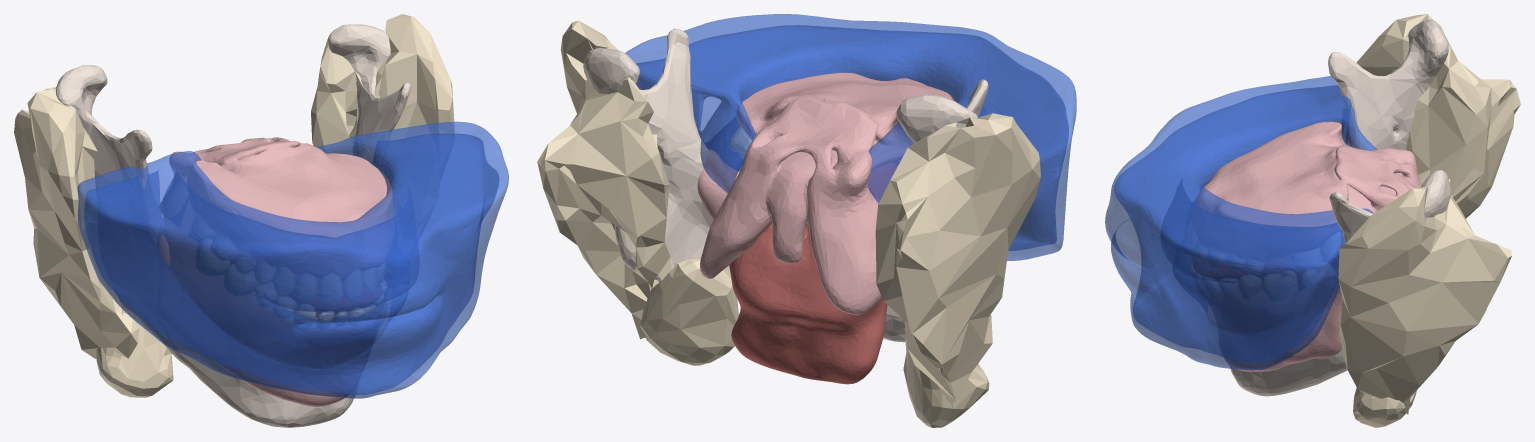
The model's file is mouth.glb.
3 views of the same model, side by side, from view 1: azimuth 30°, elevation 25°; view 2: azimuth 150°, elevation 25°; view 3: azimuth 270°, elevation 25° (orthographic). The views are drawn at different scales.
Visible parts, largest first — view 1: VH_M_buccal_mucosa, VH_M_parotid_gland_R, VH_M_mandible, VH_M_hard_palate, VH_M_parotid_gland_L, VH_M_submandibular_gland_R, VH_M_mucosa_of_soft_palate, VH_M_gingiva_of_lower_jaw, VH_M_ginviva_of_upper_jaw, VH_M_set_of_lower_jaw_teeth; view 2: VH_M_buccal_mucosa, VH_M_parotid_gland_R, VH_M_mucosa_of_soft_palate, VH_M_parotid_gland_L, VH_M_mandible, VH_M_posterior_part_of_tongue, VH_M_submandibular_gland_L, VH_M_hard_palate, VH_M_submandibular_gland_R, VH_M_gingiva_of_lower_jaw, VH_M_dorsal_tongue; view 3: VH_M_buccal_mucosa, VH_M_parotid_gland_L, VH_M_parotid_gland_R, VH_M_mandible, VH_M_hard_palate, VH_M_mucosa_of_soft_palate, VH_M_gingiva_of_lower_jaw, VH_M_submandibular_gland_L.
Boxes of the visible parts, bbox=[...] form: VH_M_buccal_mucosa: bbox=[77, 121, 508, 398]; VH_M_parotid_gland_R: bbox=[14, 86, 139, 358]; VH_M_mandible: bbox=[56, 24, 411, 427]; VH_M_hard_palate: bbox=[193, 141, 392, 235]; VH_M_parotid_gland_L: bbox=[311, 14, 454, 154]; VH_M_submandibular_gland_R: bbox=[96, 309, 173, 397]; VH_M_mucosa_of_soft_palate: bbox=[160, 137, 303, 208]; VH_M_gingiva_of_lower_jaw: bbox=[159, 234, 348, 406]; VH_M_ginviva_of_upper_jaw: bbox=[187, 165, 393, 237]; VH_M_set_of_lower_jaw_teeth: bbox=[285, 305, 375, 321]; VH_M_buccal_mucosa: bbox=[625, 14, 1076, 260]; VH_M_parotid_gland_R: bbox=[875, 113, 1040, 403]; VH_M_mucosa_of_soft_palate: bbox=[700, 96, 904, 315]; VH_M_parotid_gland_L: bbox=[537, 20, 674, 339]; VH_M_mandible: bbox=[583, 28, 988, 342]; VH_M_posterior_part_of_tongue: bbox=[729, 231, 887, 384]; VH_M_submandibular_gland_L: bbox=[640, 256, 738, 365]; VH_M_hard_palate: bbox=[737, 72, 950, 149]; VH_M_submandibular_gland_R: bbox=[903, 328, 989, 427]; VH_M_gingiva_of_lower_jaw: bbox=[697, 149, 739, 220]; VH_M_dorsal_tongue: bbox=[765, 163, 896, 252]; VH_M_buccal_mucosa: bbox=[1105, 76, 1377, 370]; VH_M_parotid_gland_L: bbox=[1338, 179, 1511, 414]; VH_M_parotid_gland_R: bbox=[1356, 14, 1520, 218]; VH_M_mandible: bbox=[1229, 19, 1450, 396]; VH_M_hard_palate: bbox=[1201, 121, 1349, 226]; VH_M_mucosa_of_soft_palate: bbox=[1331, 145, 1421, 213]; VH_M_gingiva_of_lower_jaw: bbox=[1224, 280, 1342, 371]; VH_M_submandibular_gland_L: bbox=[1353, 388, 1416, 427].
Bounding box in the file's own units: 0.1295 × 0.0987 × 0.1254.
